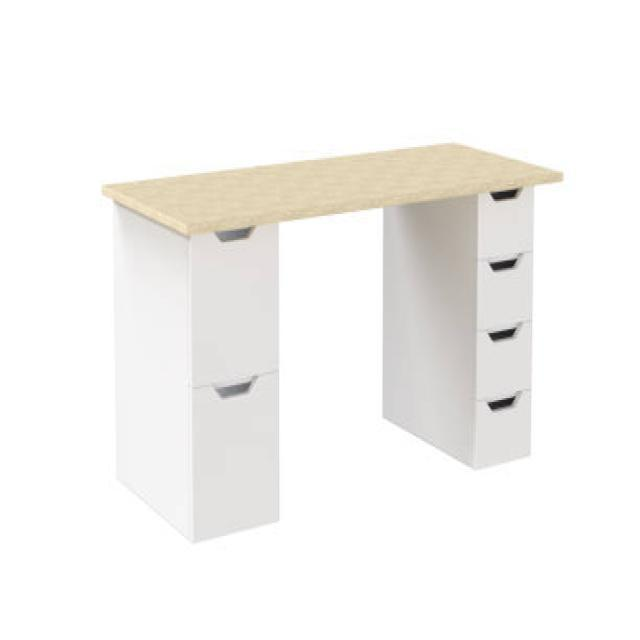table: (100, 140, 564, 544)
